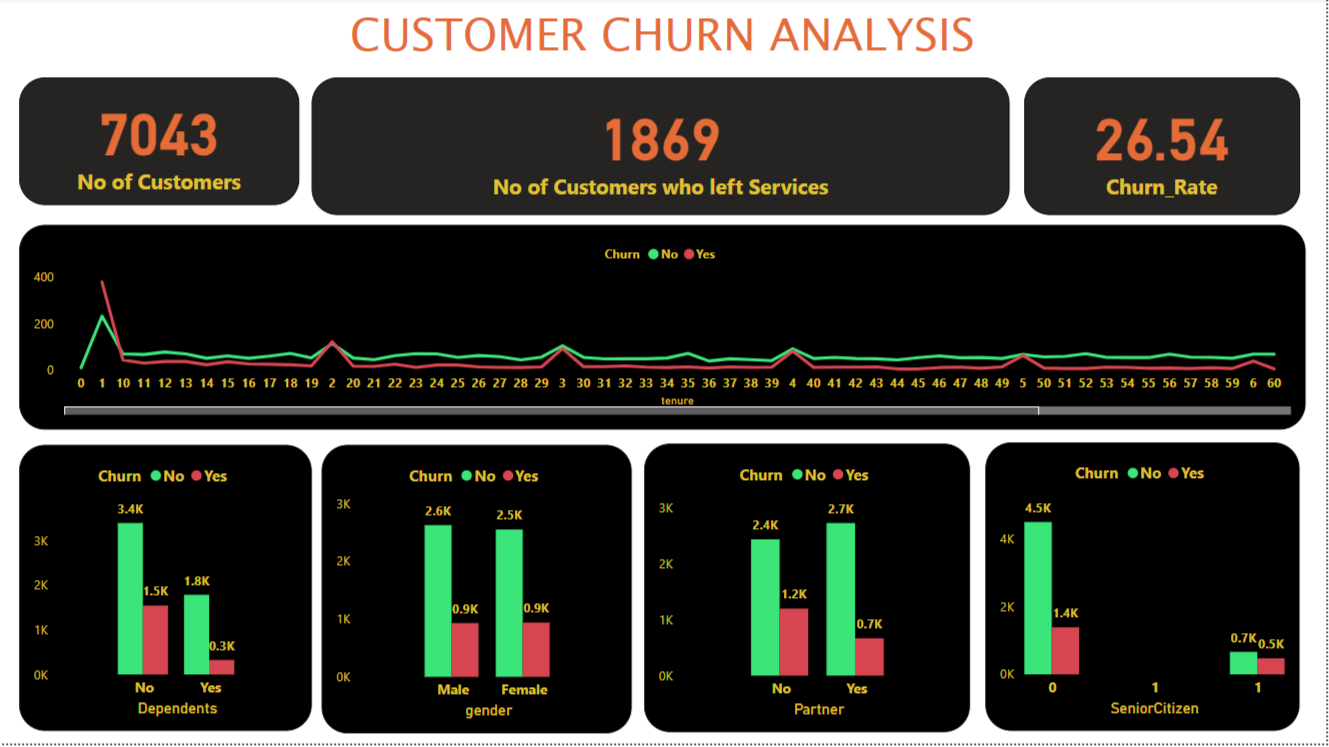

This screenshot's page, from the dashboard's own definition file:
{"tool":"powerbi","page":{"name":"Page 1","canvas":[1280,720],"ordinal":0},"visuals":[{"type":"textbox","box":[10,570,280,150],"z":0},{"type":"textbox","box":[0,0,1280,77.2],"z":1000},{"type":"card","fields":{"Values":["Count(Cutomer_churn_analysis.Customer ID)"]},"box":[19.2,76.8,270.3,123.5],"z":2000},{"type":"card","fields":{"Values":["Cutomer_churn_analysis.Churn_Rate"]},"box":[989.4,76.8,266.2,133.1],"z":3000},{"type":"clusteredColumnChart","fields":{"Category":["Cutomer_churn_analysis.Dependents"],"Y":["CountNonNull(Cutomer_churn_analysis.Churn)"],"Series":["Cutomer_churn_analysis.Churn"]},"box":[19.3,431.9,282.3,276.3],"z":4000},{"type":"clusteredColumnChart","fields":{"Y":["CountNonNull(Cutomer_churn_analysis.Churn)"],"Series":["Cutomer_churn_analysis.Churn"],"Category":["Cutomer_churn_analysis.gender"]},"box":[311.5,432.2,299.1,278.6],"z":5000},{"type":"clusteredColumnChart","fields":{"Y":["CountNonNull(Cutomer_churn_analysis.Churn)"],"Series":["Cutomer_churn_analysis.Churn"],"Category":["Cutomer_churn_analysis.Partner"]},"box":[623,430.9,314.2,278.6],"z":6000},{"type":"card","fields":{"Values":["CountNonNull(Cutomer_churn_analysis.Churn)"]},"box":[301.9,76.8,673.8,133.1],"z":7000},{"type":"lineChart","fields":{"Y":["CountNonNull(Cutomer_churn_analysis.Churn)"],"Category":["Cutomer_churn_analysis.tenure"],"Series":["Cutomer_churn_analysis.Churn"]},"box":[19.2,219.6,1241.9,197.6],"z":8000},{"type":"clusteredColumnChart","fields":{"Y":["CountNonNull(Cutomer_churn_analysis.Churn)"],"Series":["Cutomer_churn_analysis.Churn"],"Category":["Cutomer_churn_analysis.SeniorCitizen"]},"box":[952.3,429.5,303.3,278.6],"z":9000}]}

Visuals, with their boxes in screenshot pixels (x1, y1, x2, y2), scaled from the page's 1280x720 canvas onto the 1329x747 screenshot:
textbox: 10 591 301 746
textbox: 0 0 1328 80
card - Count(Cutomer_churn_analysis.Customer ID): 20 80 301 208
card - Cutomer_churn_analysis.Churn_Rate: 1027 80 1304 218
clusteredColumnChart - Cutomer_churn_analysis.Dependents x CountNonNull(Cutomer_churn_analysis.Churn): 20 448 313 735
clusteredColumnChart - CountNonNull(Cutomer_churn_analysis.Churn) x Cutomer_churn_analysis.Churn: 323 448 634 737
clusteredColumnChart - CountNonNull(Cutomer_churn_analysis.Churn) x Cutomer_churn_analysis.Churn: 647 447 973 736
card - CountNonNull(Cutomer_churn_analysis.Churn): 313 80 1013 218
lineChart - CountNonNull(Cutomer_churn_analysis.Churn) x Cutomer_churn_analysis.tenure: 20 228 1309 433
clusteredColumnChart - CountNonNull(Cutomer_churn_analysis.Churn) x Cutomer_churn_analysis.Churn: 989 446 1304 735
